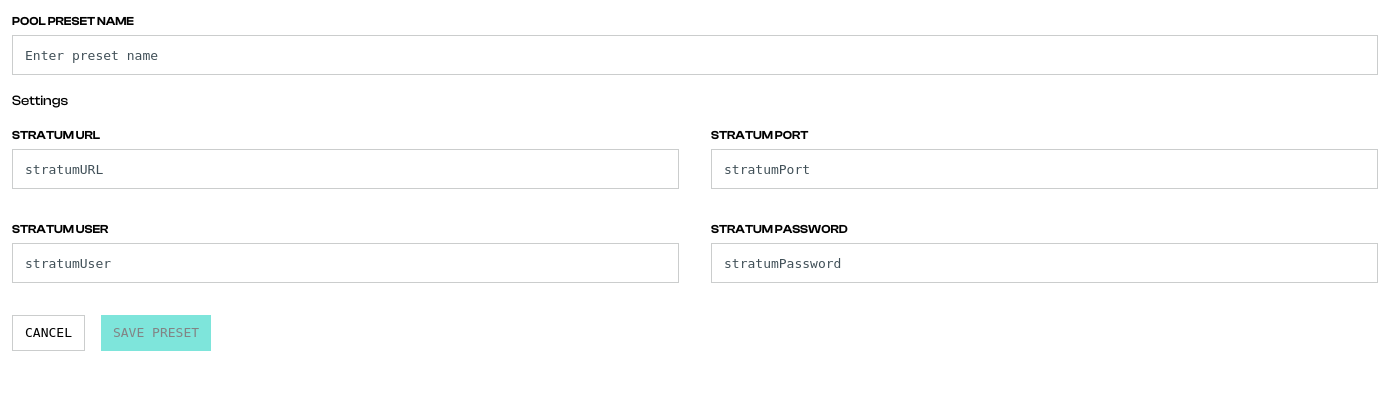
Test: PresetEditor › fetches presets when presetId is provided and blocks duplicate preset names
This screenshot has width=1390, height=395.
Type "Existing" into the field labelled "Pool Preset Name".
click(695, 55); type("Existing")  # box [12,35,1378,75]
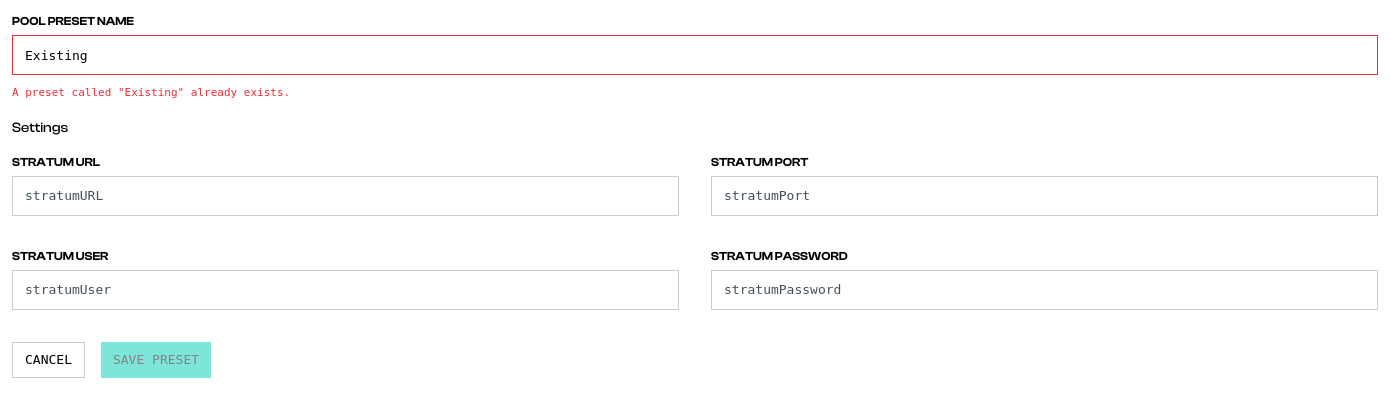
Expected: the text "A preset called \"Existing\" already exists." is shown, [12,86,290,99]
